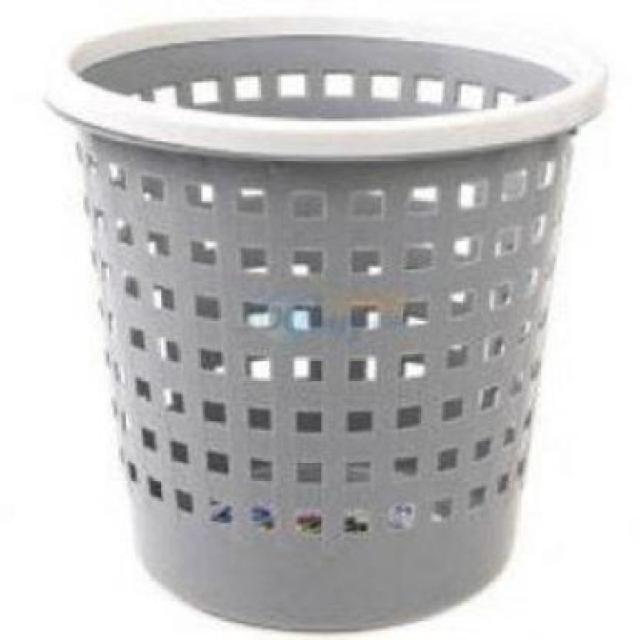dustbin: (36, 0, 618, 635)
